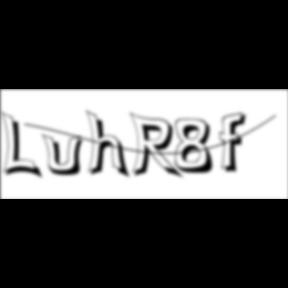8: (176, 117, 220, 176)
L: (1, 110, 45, 182)
R: (130, 112, 187, 182)
f: (220, 111, 252, 175)
h: (86, 108, 134, 182)
u: (42, 132, 90, 178)
